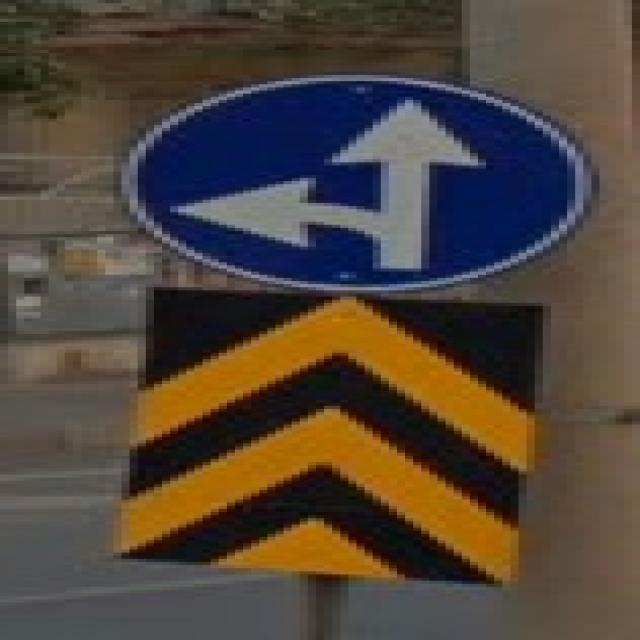Straight or Left: (119, 76, 597, 291)
